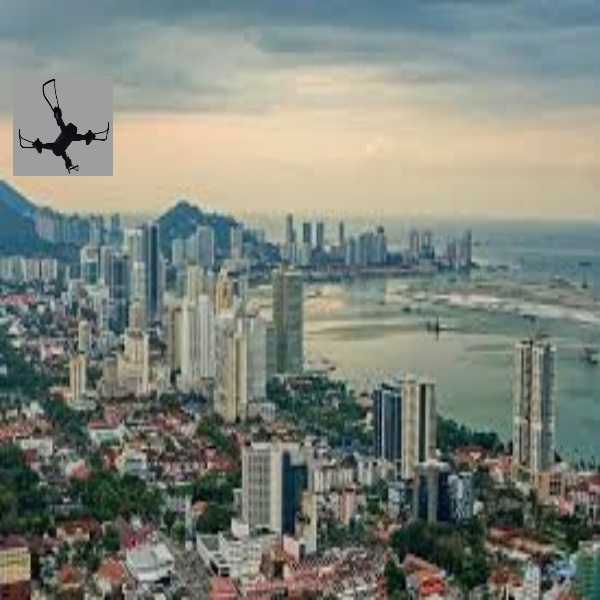drone: (15, 68, 115, 176)
